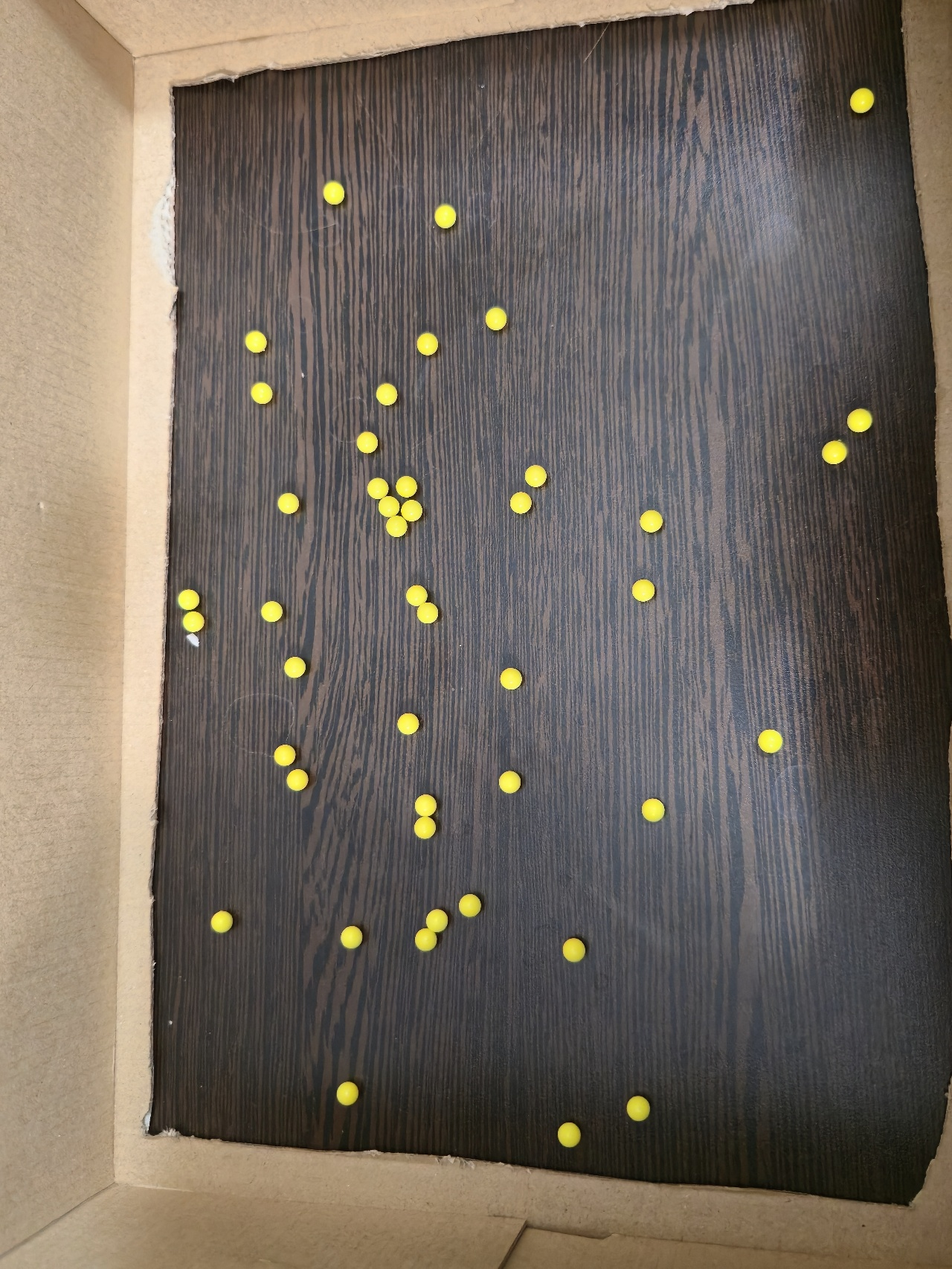yellow_bead: (632, 1102, 644, 1116), (764, 736, 777, 748), (853, 415, 866, 427), (563, 1128, 574, 1142), (440, 209, 451, 223), (648, 805, 659, 817), (491, 312, 501, 325), (329, 186, 339, 199), (420, 934, 431, 945), (431, 916, 442, 927), (419, 822, 430, 833), (638, 585, 649, 596), (391, 521, 402, 532), (646, 516, 657, 527), (256, 388, 267, 399), (569, 945, 579, 957), (422, 338, 432, 350), (250, 335, 260, 347), (465, 900, 475, 911), (420, 801, 430, 812), (505, 777, 515, 788), (187, 617, 198, 627), (422, 608, 433, 618), (266, 607, 277, 617), (384, 502, 394, 513), (373, 483, 383, 494), (530, 472, 541, 482), (346, 933, 356, 943), (515, 498, 525, 508), (362, 438, 372, 448), (216, 918, 227, 927), (411, 592, 422, 601), (292, 776, 301, 786), (280, 751, 289, 761), (403, 720, 413, 729), (506, 675, 516, 684), (184, 595, 193, 605), (283, 499, 292, 509), (402, 482, 411, 492), (382, 390, 391, 400), (289, 664, 300, 672), (408, 506, 416, 516), (342, 1088, 348, 1100), (828, 452, 836, 459)
